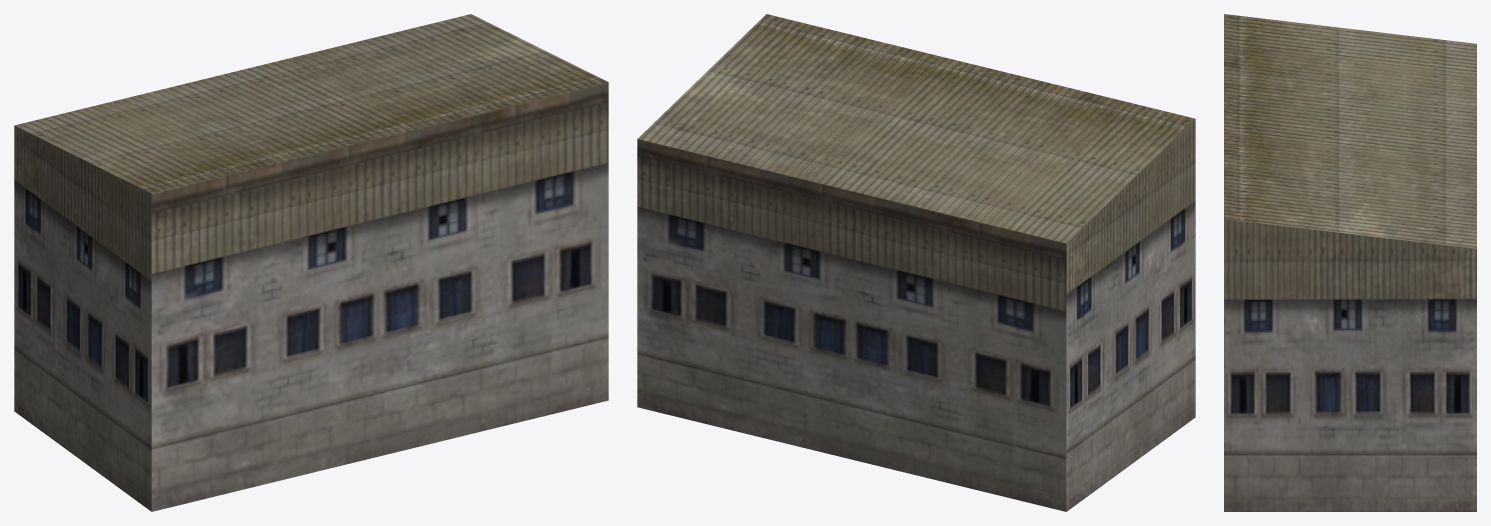
The model's file is factory2.FBX.
The picture shows the model from 3 angles, left to right: view 1: azimuth 30°, elevation 25°; view 2: azimuth 150°, elevation 25°; view 3: azimuth 270°, elevation 25°; orthographic projection. The views are drawn at different scales.
Parts seen in each view (by area): view 1: Box002; view 2: Box002; view 3: Box002.
Boxes of the visible parts, bbox=[...] form: Box002: bbox=[14, 14, 608, 511]; Box002: bbox=[637, 14, 1195, 511]; Box002: bbox=[1224, 14, 1476, 511].
Bounding box in the file's own units: 90.41 × 60.19 × 47.11.
1 material, 1 textured.
